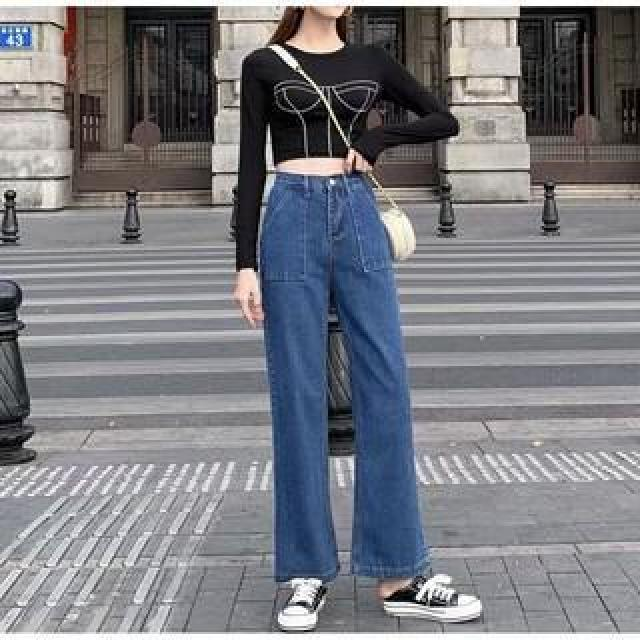pants: (247, 166, 439, 580)
sweater: (205, 37, 469, 269)
